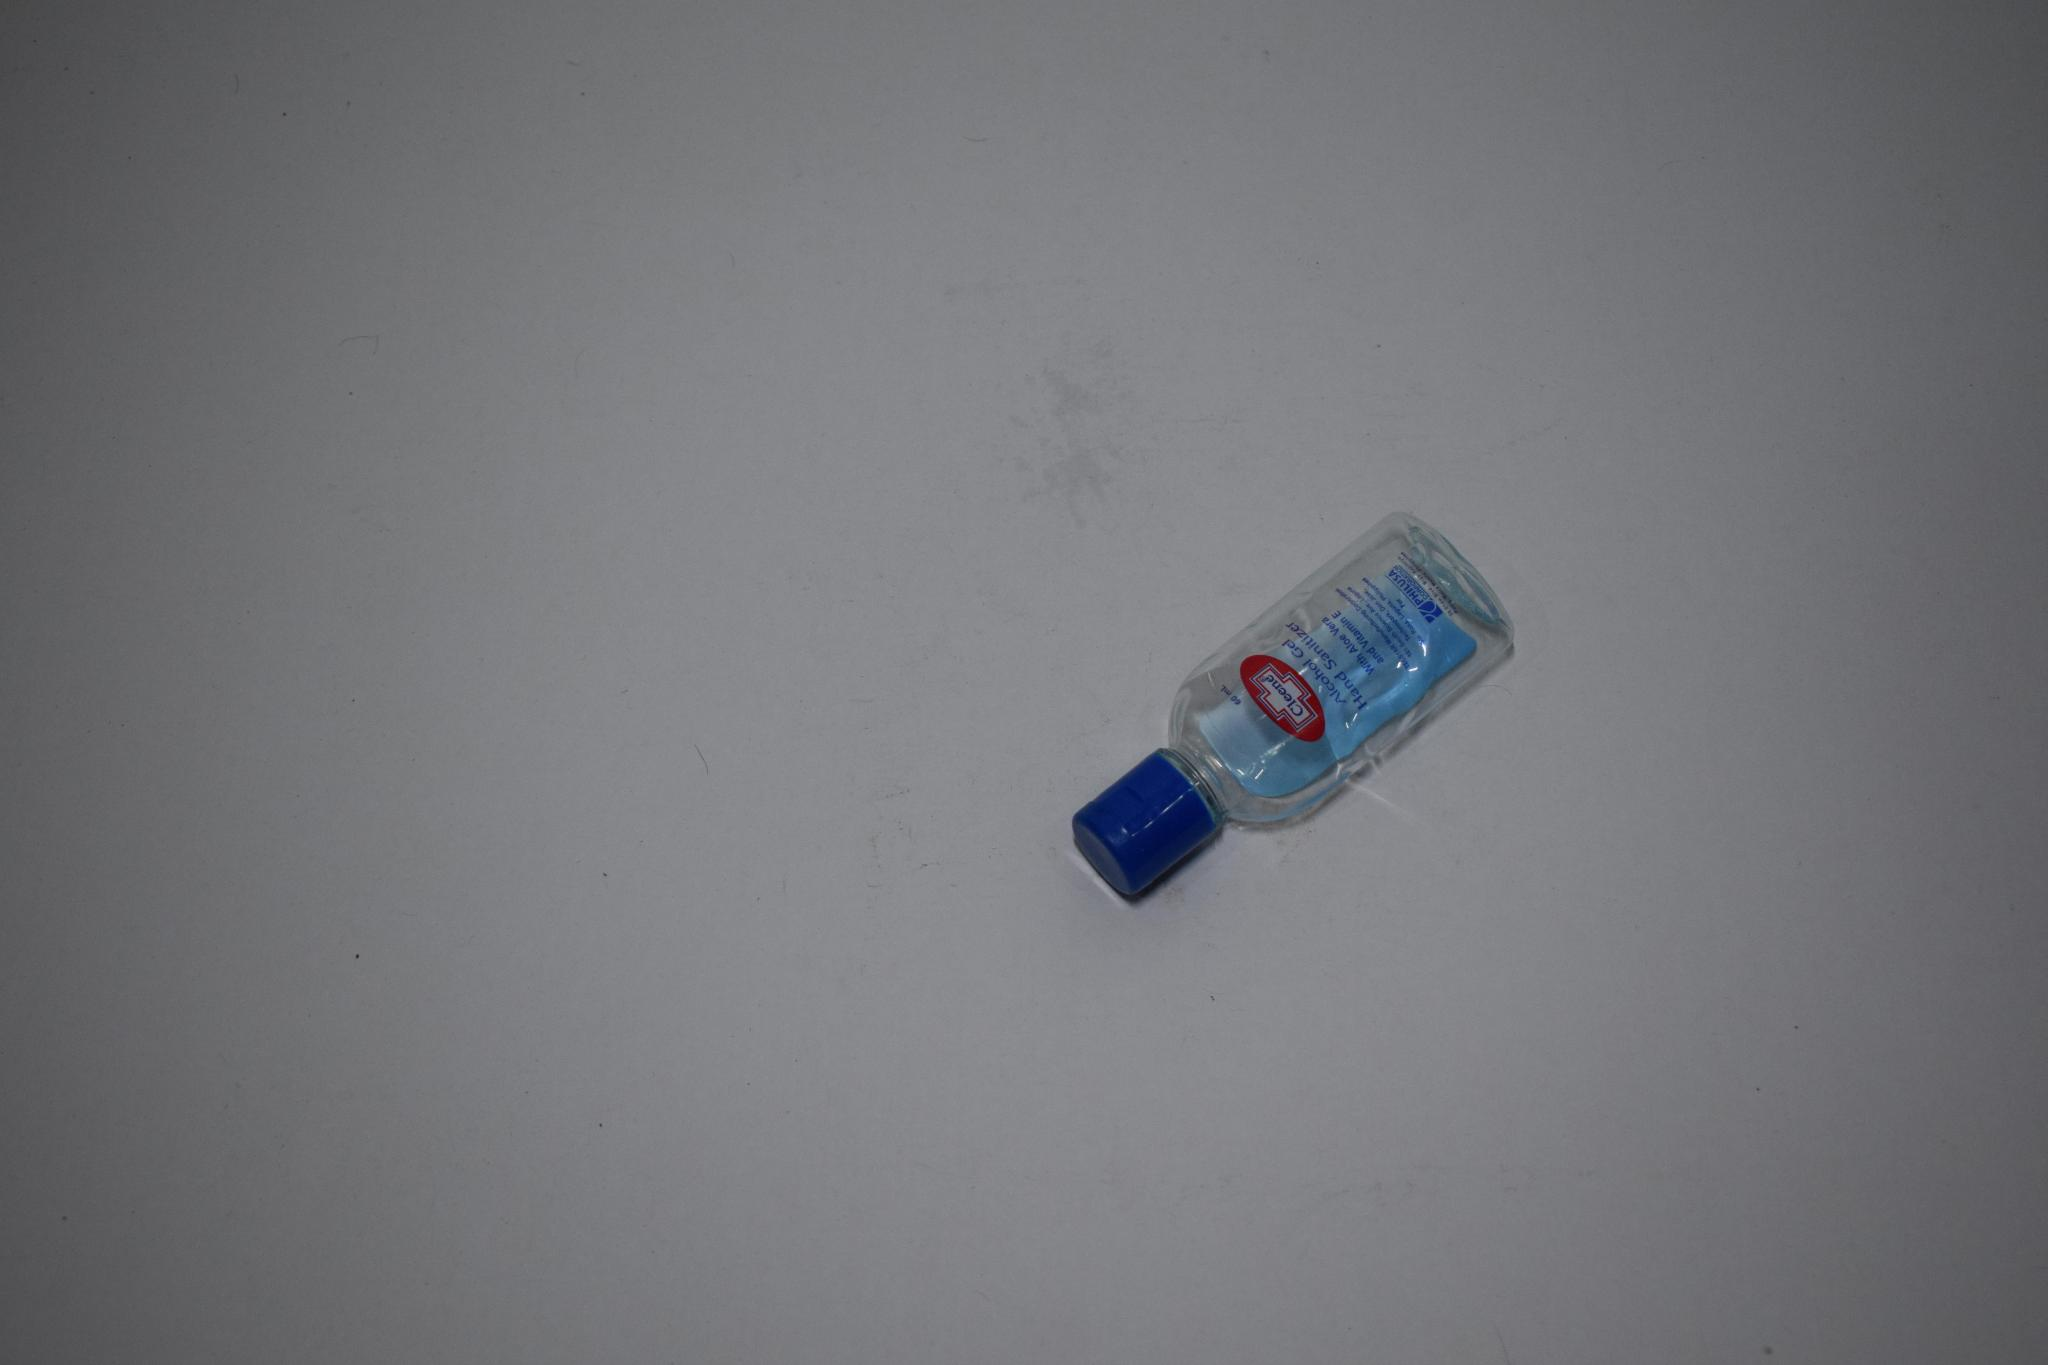bottle: (1069, 483, 1527, 940)
